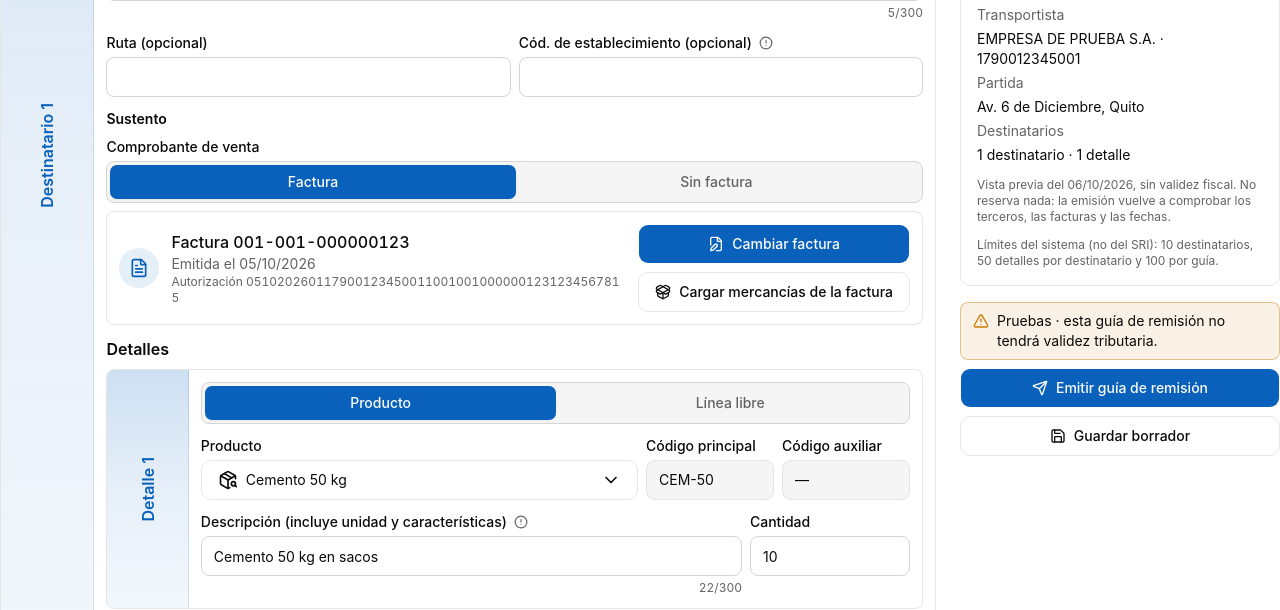
Scenario: borrador de guía de remisión › la carga de mercancías es una sugerencia: nunca agrega sola una línea libre
(page scrolled)
Click the button "Cargar mercancías de la factura".
click(774, 292)  # box [638,272,910,312]
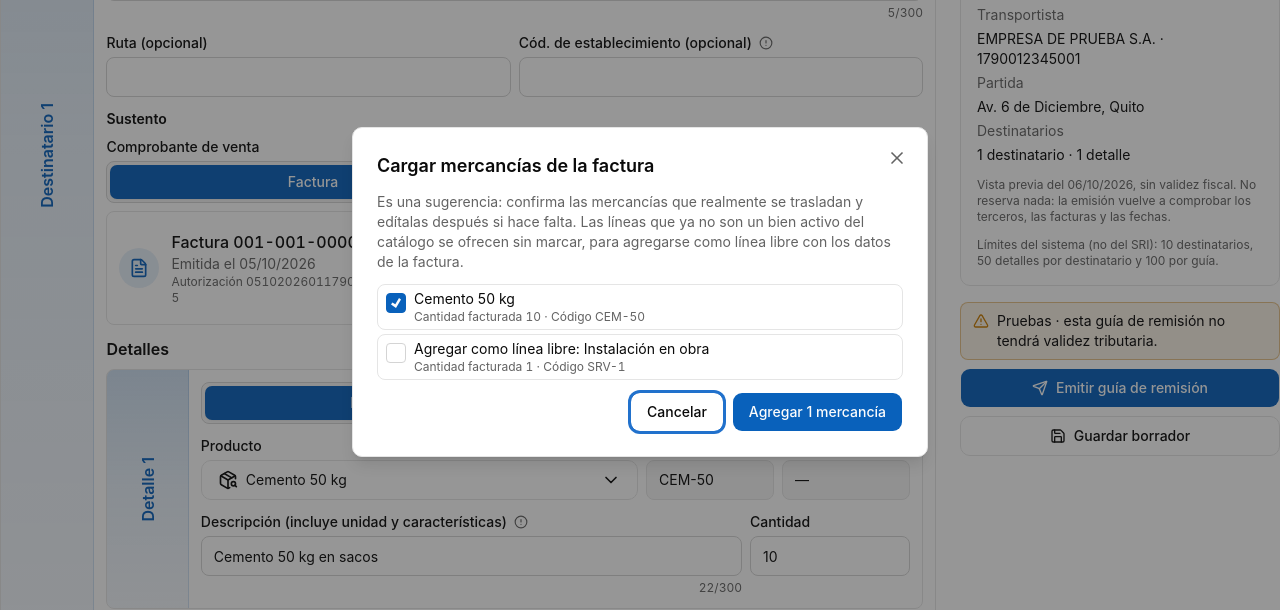
expect the text "Es una sugerencia" is shown: met, box [377,193,891,270]
Click the button "Agregar 1 mercancía".
click(817, 412)  # box [732,392,903,432]
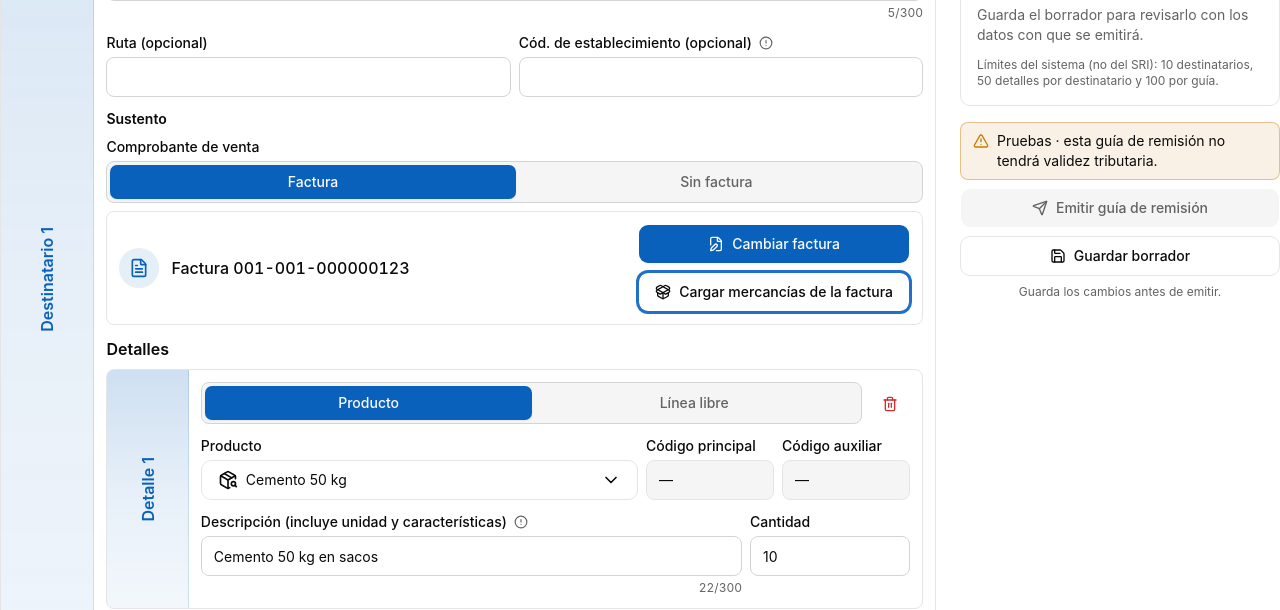
Note: La línea libre se agrega solo si el usuario la marca, con sus datos editables.
Click the button "Cargar mercancías de la factura".
click(774, 292)  # box [638,272,910,312]
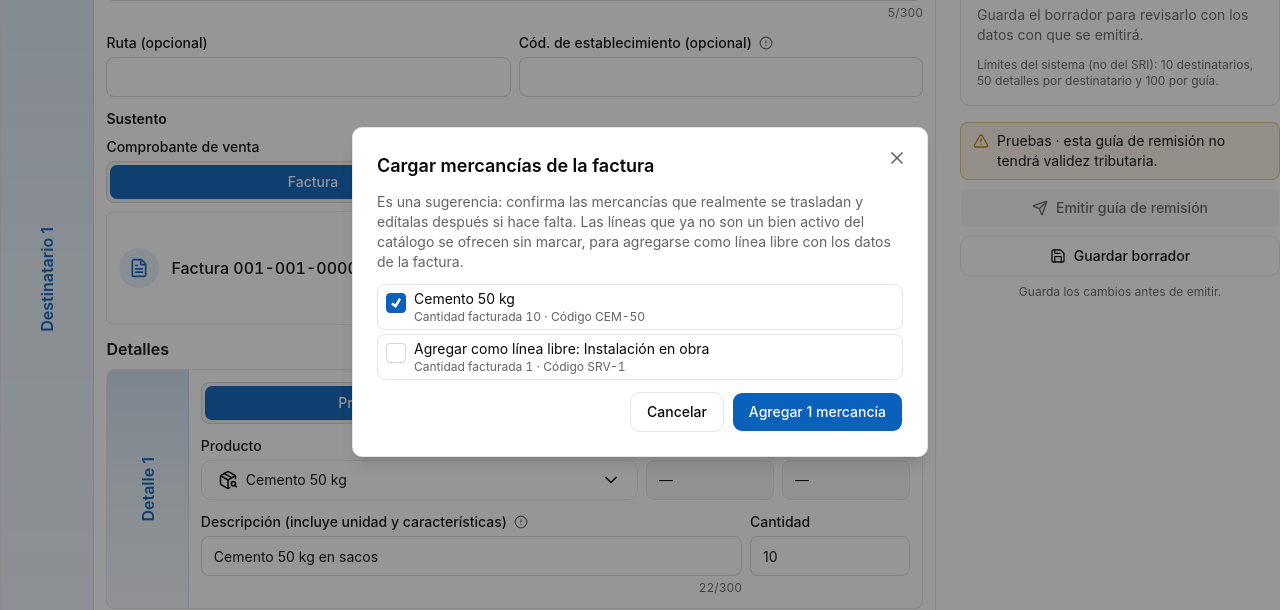
Click the checkbox labelled "Cemento 50 kg Cantidad facturada 10 · Código CEM-50".
click(396, 303)  # box [386,293,406,313]
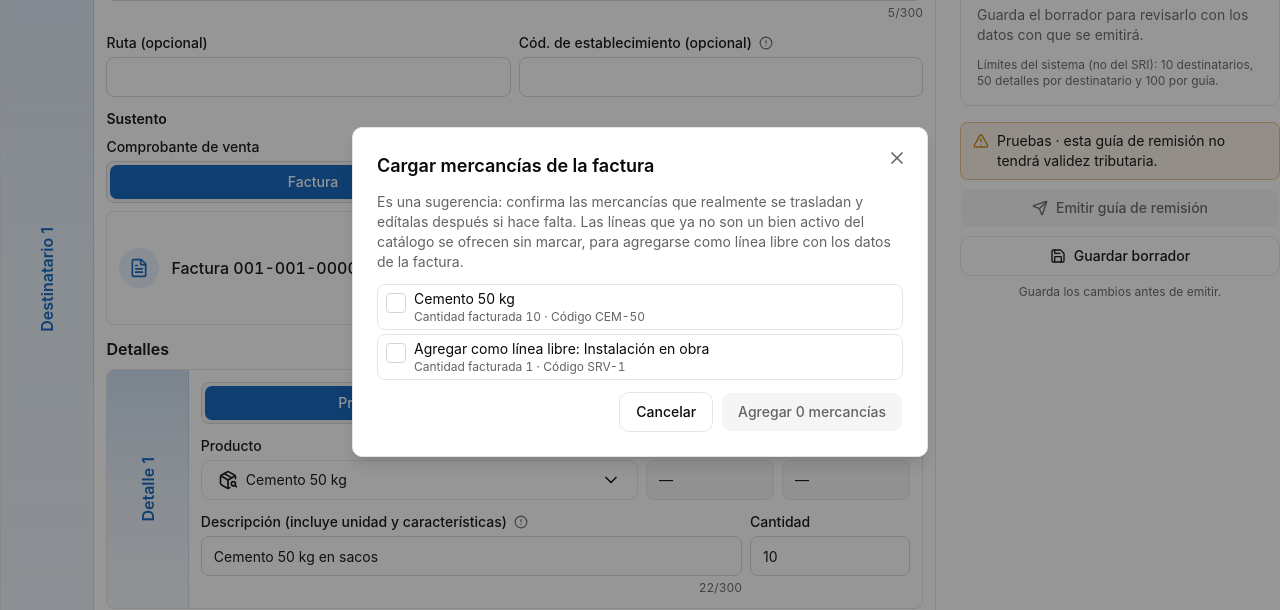
Click the checkbox labelled "Instalación en obra".
click(396, 353)  # box [386,343,406,363]
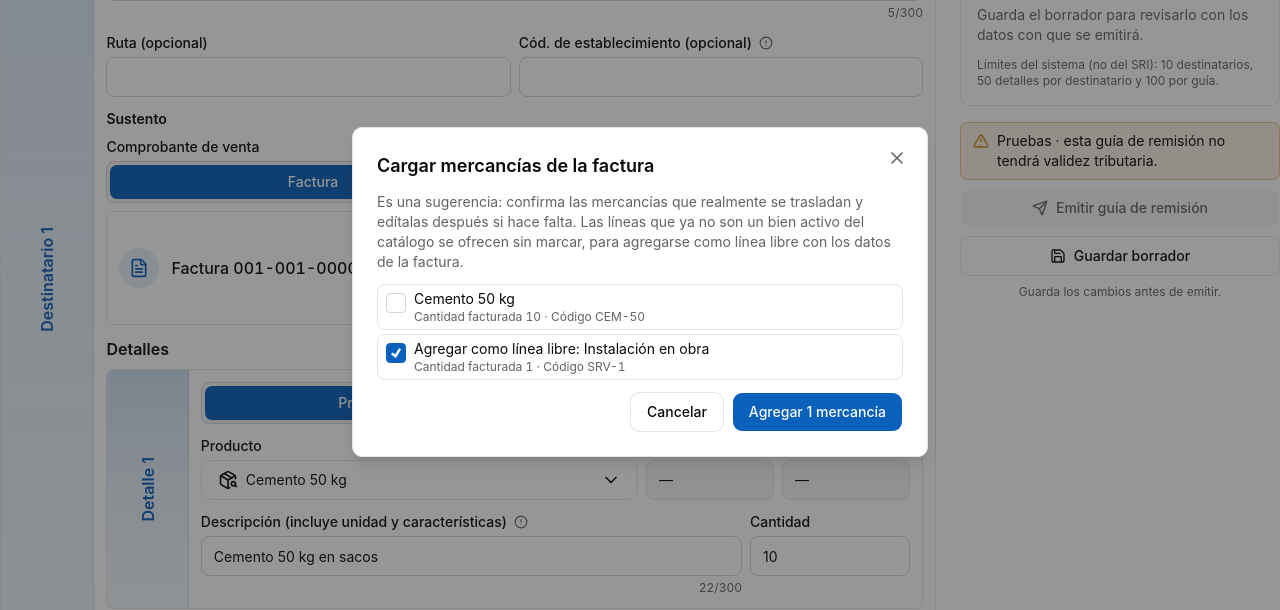
Click the button "Agregar 1 mercancía".
click(817, 412)  # box [732,392,903,432]
(page scrolled)
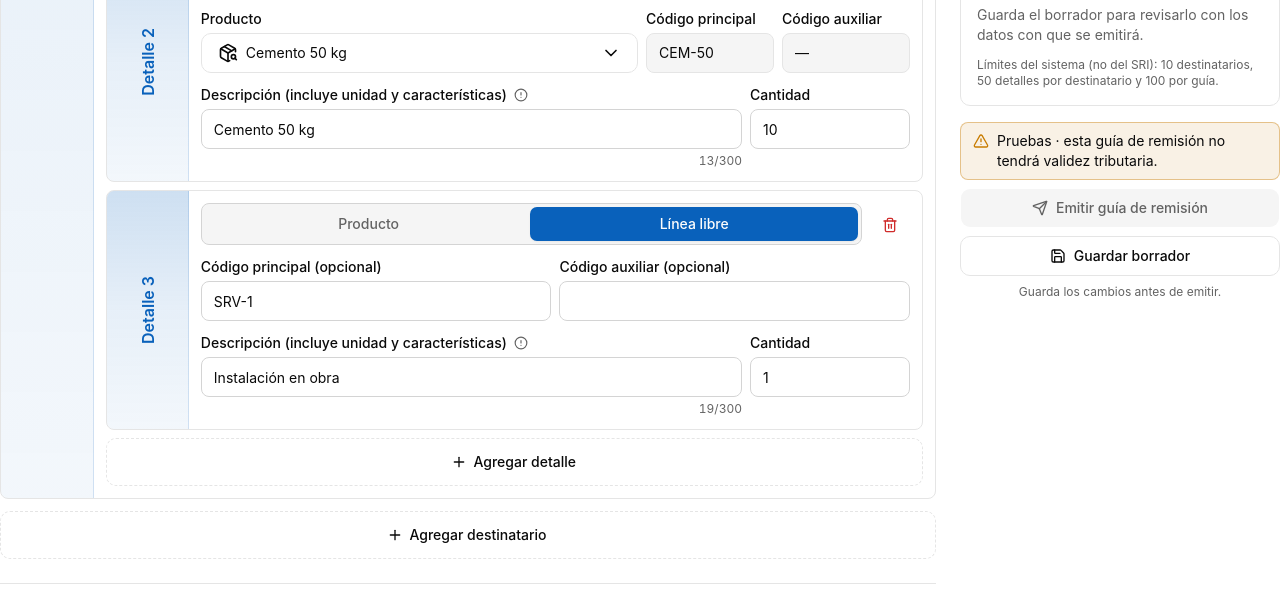
expect the field labelled "Código principal (opcional)" holds "SRV-1": met, box [201,281,551,321]
expect the field labelled "Descripción (incluye unidad y características)" below "Código principal (opcional)" holds "Instalación en obra": met, box [201,357,742,397]
expect the field labelled "Cantidad" below "Código auxiliar (opcional)" holds "1": met, box [750,357,910,397]
